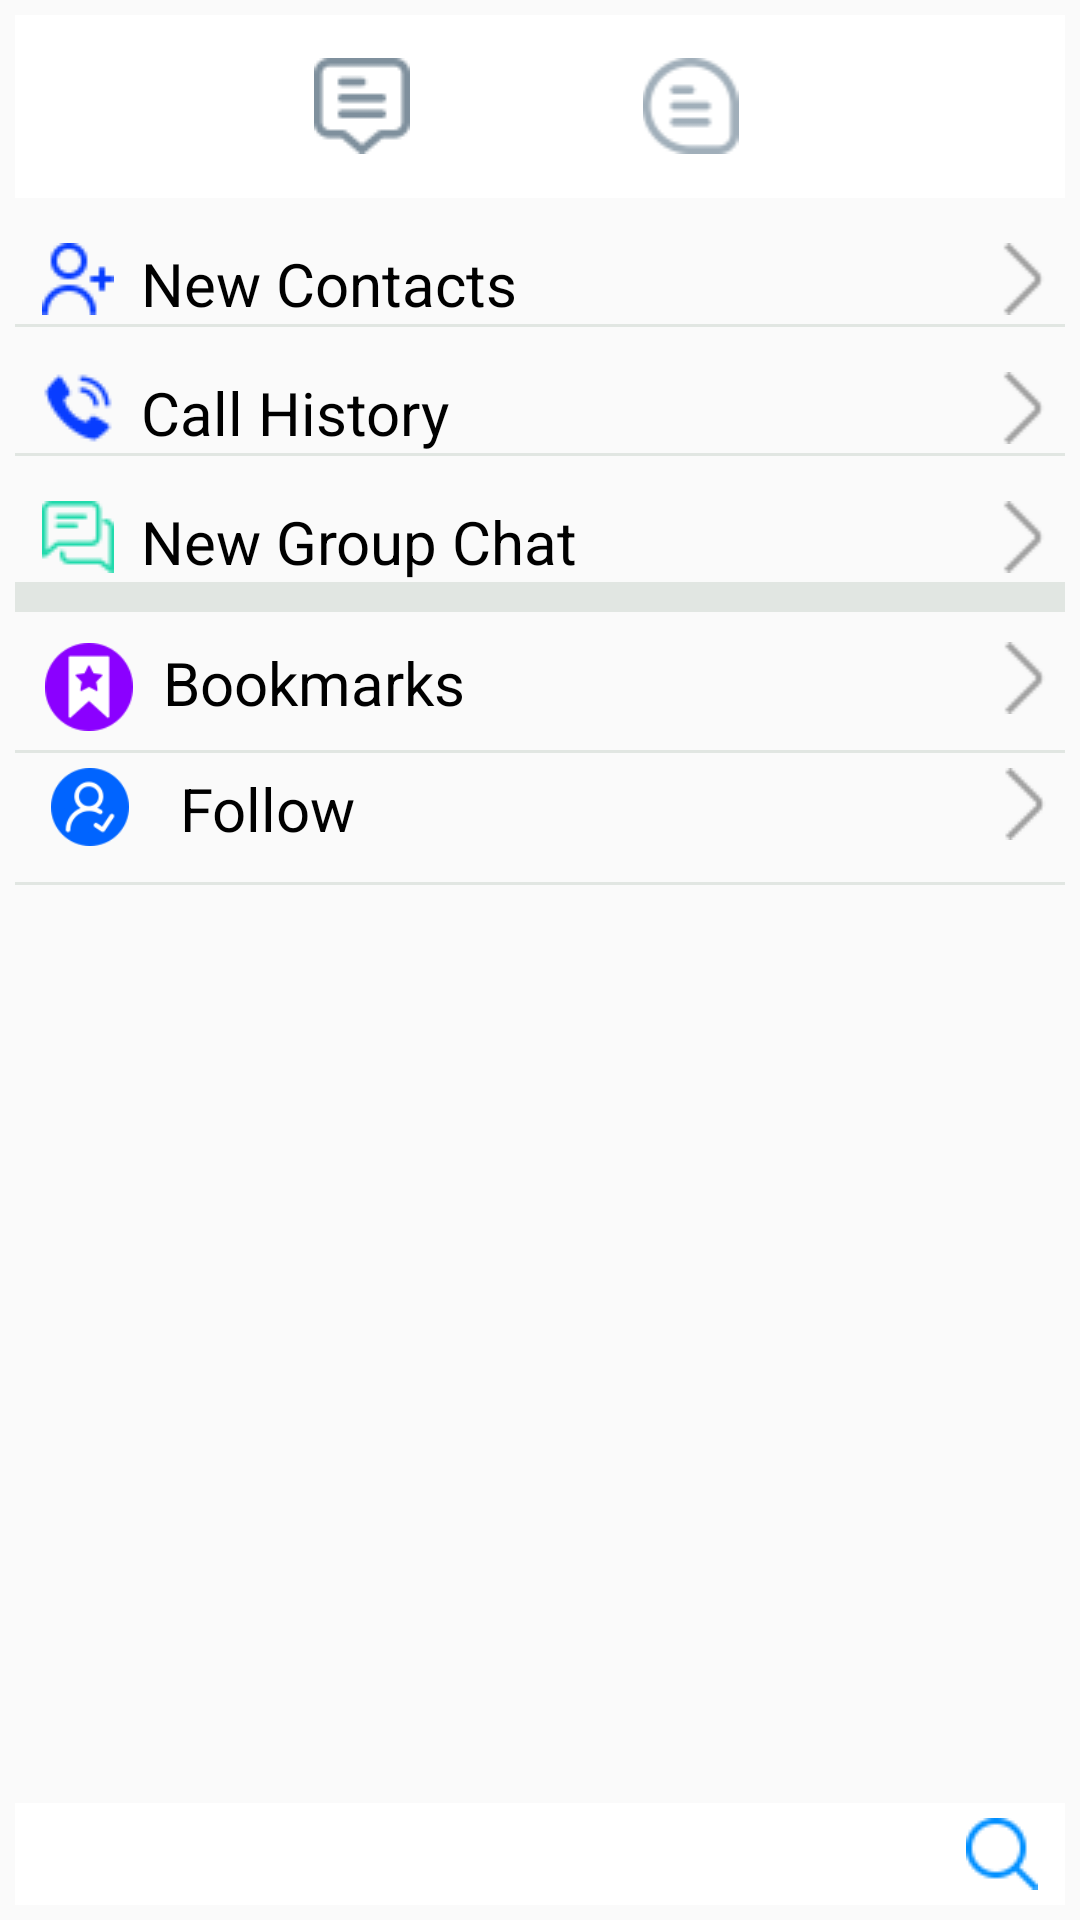

Icons on this 1080 x 1920 Android screen, each with its box as (x1, y1, x2, y2):
angle: (1004, 243, 1041, 315), (1004, 372, 1041, 444), (1004, 501, 1041, 573), (1005, 642, 1042, 714), (1006, 768, 1043, 840)
search: (966, 1818, 1038, 1890)
telephonecall: (44, 374, 112, 442)
user add: (42, 243, 114, 315)
